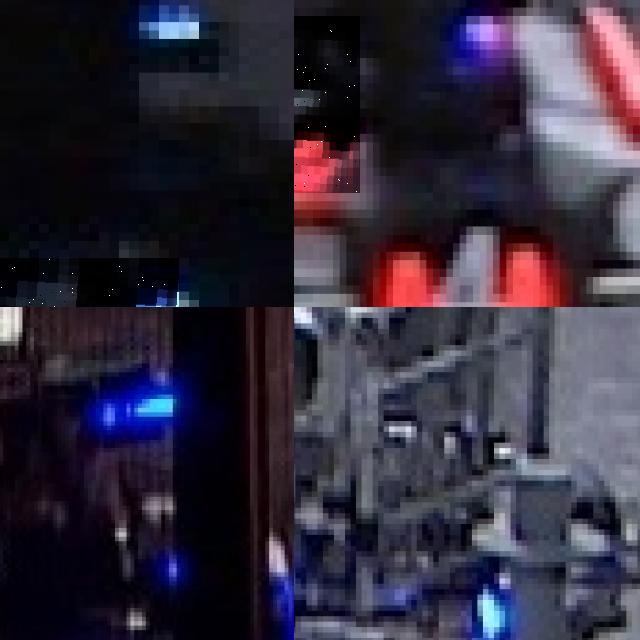B1: (0, 258, 179, 307)
R4: (372, 226, 566, 307), (294, 16, 359, 193)
